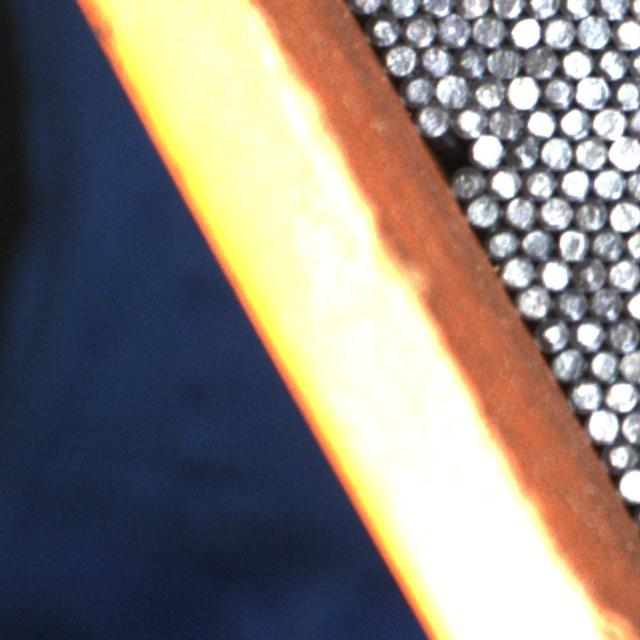tool: (402, 12, 437, 47), (487, 43, 522, 78), (572, 256, 607, 291), (450, 163, 485, 198), (508, 13, 542, 48), (488, 164, 522, 199), (503, 194, 538, 228), (555, 226, 590, 260), (577, 13, 611, 48), (437, 10, 471, 45), (467, 192, 501, 227), (468, 132, 503, 166), (554, 285, 589, 319), (471, 12, 506, 46), (539, 194, 573, 228), (606, 317, 640, 351), (590, 225, 624, 259), (540, 134, 574, 168), (587, 346, 621, 380), (436, 72, 470, 106), (419, 42, 453, 76), (560, 45, 594, 79), (507, 134, 541, 168), (592, 104, 626, 138), (604, 437, 638, 471), (604, 377, 638, 411), (506, 74, 540, 108), (590, 285, 624, 319), (517, 283, 551, 317), (454, 44, 488, 78), (574, 74, 608, 108), (536, 255, 570, 289), (552, 346, 586, 380), (543, 14, 576, 49), (385, 41, 418, 76), (558, 165, 591, 199), (592, 165, 625, 199), (558, 105, 591, 139), (572, 317, 606, 350), (519, 226, 553, 259), (417, 101, 451, 134), (524, 44, 557, 78), (523, 166, 556, 200), (472, 75, 505, 109), (574, 134, 607, 168), (597, 44, 630, 78), (489, 104, 523, 137), (586, 408, 619, 441), (401, 71, 434, 104), (574, 197, 607, 230), (570, 378, 603, 411), (608, 134, 640, 168), (542, 74, 574, 108), (608, 256, 640, 290), (500, 254, 534, 286), (453, 104, 487, 136), (608, 197, 640, 230), (540, 317, 572, 350), (369, 12, 401, 45), (485, 226, 518, 258), (524, 105, 556, 138), (612, 77, 640, 110), (613, 16, 640, 50), (618, 466, 640, 501), (619, 409, 640, 443), (620, 346, 640, 381), (596, 0, 630, 19), (526, 0, 560, 19), (562, 0, 595, 19), (492, 0, 526, 18), (457, 0, 491, 17), (386, 0, 420, 17), (420, 0, 455, 16), (625, 226, 640, 260), (625, 288, 640, 322), (349, 0, 383, 13)
